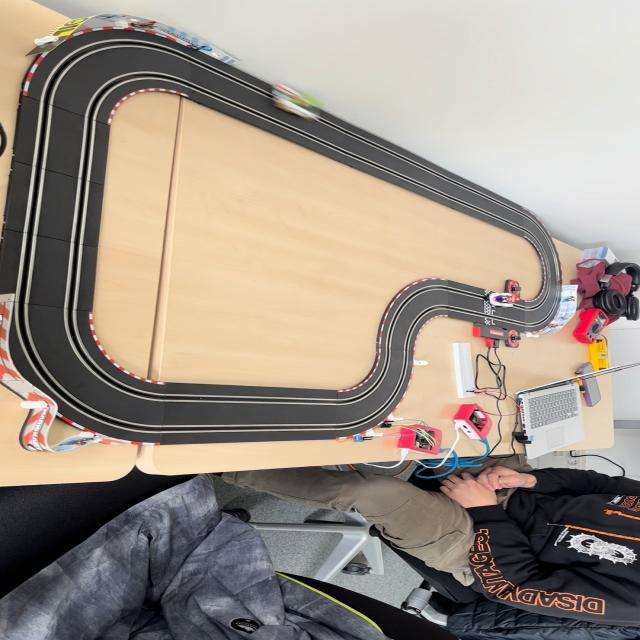mario: (487, 292, 522, 309)
yoshi: (265, 82, 324, 122)
